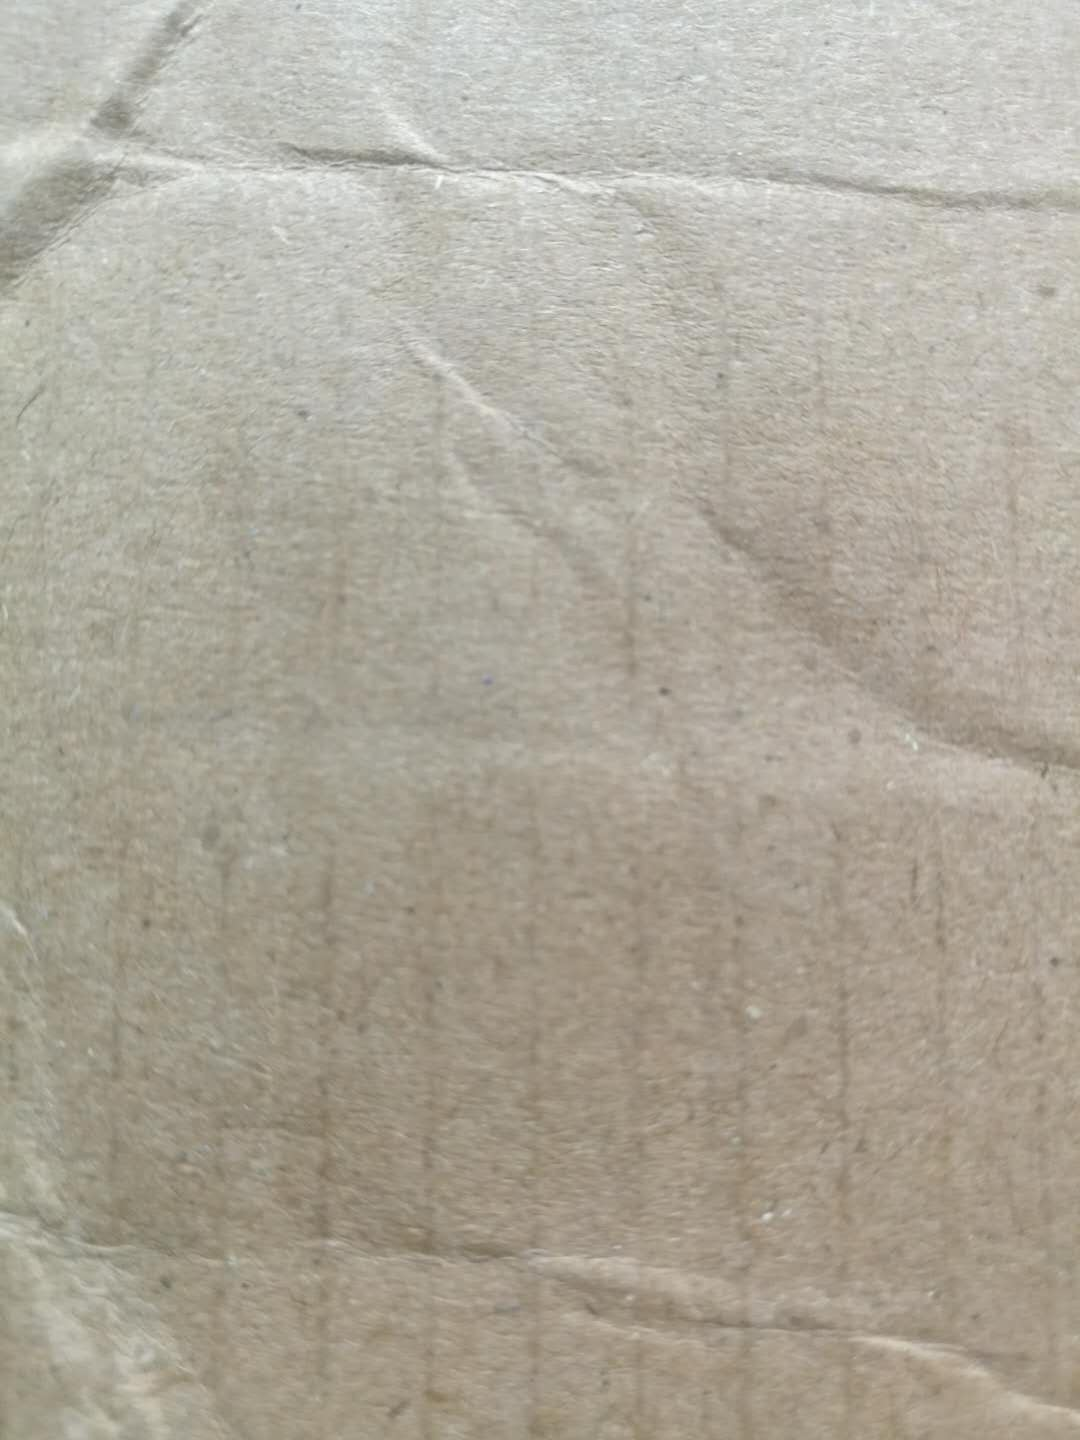defect: (2, 898, 1080, 1437), (1, 1, 1080, 348), (405, 310, 1080, 823)
